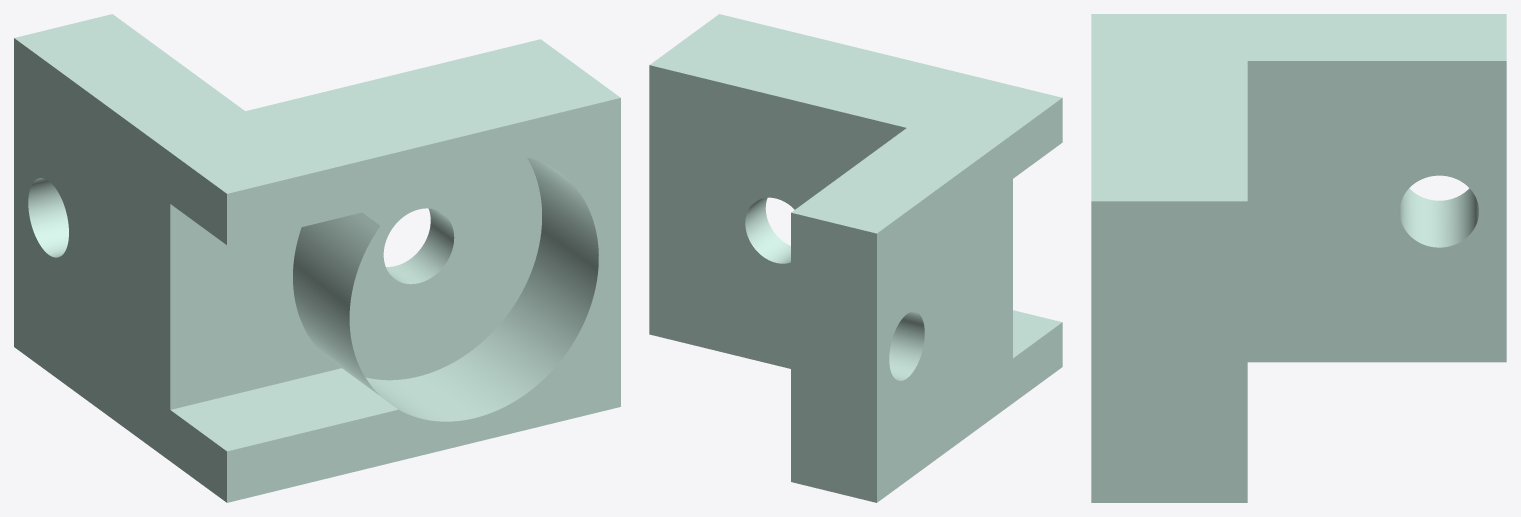
The picture shows the model from 3 angles, left to right: view 1: azimuth 30°, elevation 25°; view 2: azimuth 150°, elevation 25°; view 3: azimuth 270°, elevation 25°; orthographic projection. The views are drawn at different scales.
Parts seen in each view (by area): view 1: Renderer Node; view 2: Renderer Node; view 3: Renderer Node.
Boxes of the visible parts, left/top/right/bottom form: Renderer Node: left=14, top=14, right=620, bottom=502; Renderer Node: left=649, top=14, right=1062, bottom=502; Renderer Node: left=1091, top=14, right=1506, bottom=502.
Bounding box in the file's own units: 0.75 × 0.5625 × 0.7026.
